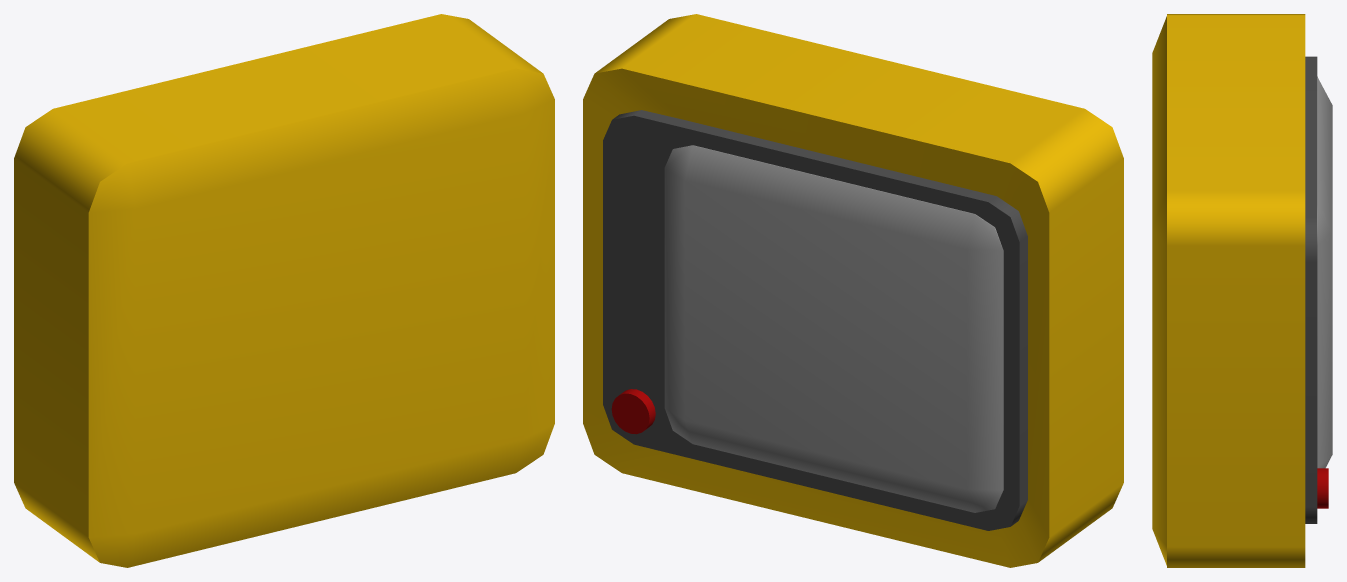
Rendered from screen_tv.fbx.
3 views of the same model, side by side, from view 1: azimuth 30°, elevation 25°; view 2: azimuth 150°, elevation 25°; view 3: azimuth 270°, elevation 25° (orthographic). The views are drawn at different scales.
Parts seen in each view (by area): view 1: tv_frame; view 2: tv_frame, tv_screen_clear, tv_rim1, tv_button; view 3: tv_frame, tv_rim1, tv_screen_clear, tv_button.
Boxes of the visible parts, x1,y1,x2,y2 form: tv_frame: (14, 14, 554, 567); tv_frame: (583, 14, 1123, 567); tv_screen_clear: (664, 145, 1003, 512); tv_rim1: (603, 110, 1027, 530); tv_button: (611, 389, 655, 434); tv_frame: (1152, 14, 1305, 567); tv_rim1: (1305, 56, 1317, 523); tv_screen_clear: (1317, 76, 1332, 468); tv_button: (1317, 468, 1328, 508).
Size of the model in its own units: 0.0288 by 0.0239 by 0.0104.
